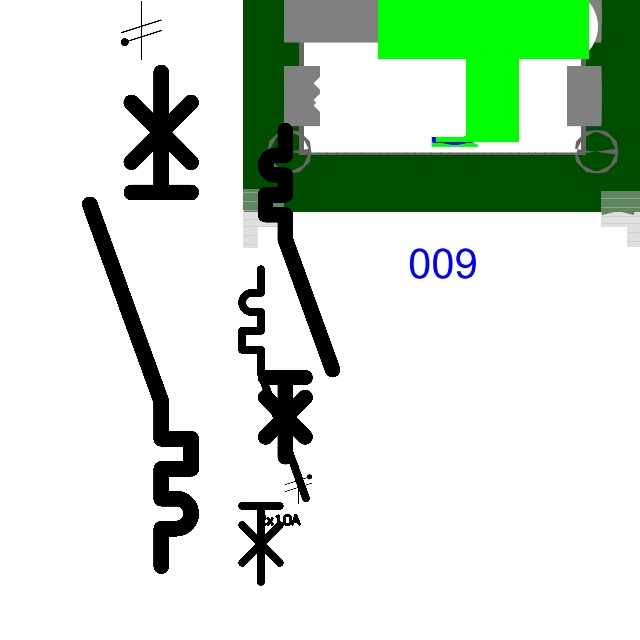interruptor_termomagnetico: (77, 59, 204, 579), (257, 122, 341, 465), (234, 261, 314, 590)
